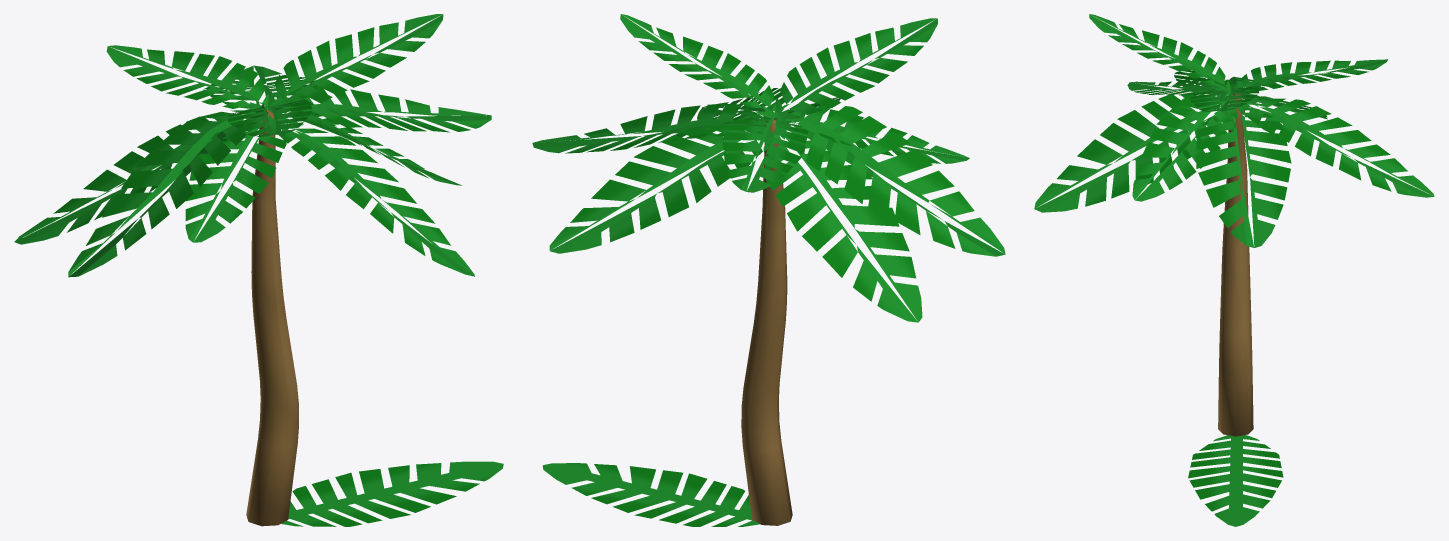
The picture shows the model from 3 angles, left to right: view 1: azimuth 30°, elevation 25°; view 2: azimuth 150°, elevation 25°; view 3: azimuth 270°, elevation 25°; orthographic projection. The views are drawn at different scales.
Visible parts, largest first — view 1: Cylinder_1, leaf.009_10, leaf_0, leaf.005_6, leaf.006_7, leaf.007_8, leaf.003_4, leaf.001_2, leaf.004_5, leaf.008_9, leaf.010_11, leaf.002_3; view 2: Cylinder_1, leaf.009_10, leaf.004_5, leaf.002_3, leaf_0, leaf.008_9, leaf.006_7, leaf.001_2, leaf.007_8, leaf.003_4, leaf.010_11; view 3: Cylinder_1, leaf.001_2, leaf.005_6, leaf.002_3, leaf_0, leaf.010_11, leaf.008_9, leaf.007_8, leaf.003_4, leaf.006_7.
Part boxes in pixels (x1,y1,x2,y2): Cylinder_1: [246, 106, 298, 526]; leaf.009_10: [68, 104, 267, 277]; leaf_0: [281, 461, 503, 526]; leaf.005_6: [270, 117, 474, 276]; leaf.006_7: [266, 14, 443, 112]; leaf.007_8: [106, 45, 268, 113]; leaf.003_4: [185, 115, 286, 242]; leaf.001_2: [269, 85, 491, 132]; leaf.004_5: [14, 114, 263, 244]; leaf.008_9: [228, 100, 312, 136]; leaf.010_11: [272, 110, 461, 185]; leaf.002_3: [203, 65, 316, 117]; Cylinder_1: [741, 118, 792, 525]; leaf.009_10: [775, 105, 1005, 256]; leaf.004_5: [763, 133, 922, 322]; leaf.002_3: [549, 125, 772, 253]; leaf_0: [542, 463, 759, 526]; leaf.008_9: [775, 18, 937, 119]; leaf.006_7: [620, 14, 778, 119]; leaf.001_2: [532, 104, 765, 153]; leaf.007_8: [722, 114, 808, 192]; leaf.003_4: [783, 109, 969, 163]; leaf.010_11: [697, 88, 785, 123]; Cylinder_1: [1218, 94, 1253, 436]; leaf.001_2: [1196, 102, 1291, 247]; leaf.005_6: [1034, 94, 1235, 212]; leaf.002_3: [1238, 98, 1434, 197]; leaf_0: [1188, 435, 1283, 526]; leaf.010_11: [1132, 92, 1237, 201]; leaf.008_9: [1089, 14, 1231, 94]; leaf.007_8: [1231, 59, 1387, 92]; leaf.003_4: [1127, 77, 1233, 101]; leaf.006_7: [1189, 86, 1259, 111].
Bounding box in the file's own units: 18.62 × 18.51 × 17.31.
Materials: 2 (2 with a texture image).
